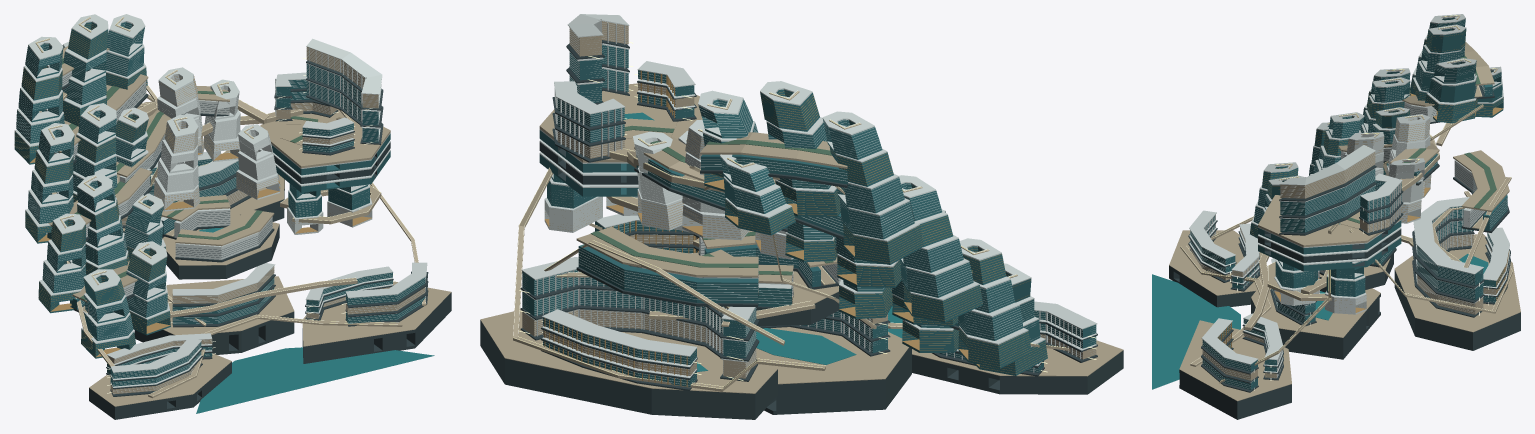
File: R19_LIVING_HORIZON.glb
3 views of the same model, side by side, from view 1: azimuth 30°, elevation 25°; view 2: azimuth 150°, elevation 25°; view 3: azimuth 270°, elevation 25° (orthographic). The views are drawn at different scales.
Visible parts, largest first — view 1: A_INLAND_SEA, A_EAST_deep_public_land, A_EAST_public_surface, H_CONTINUOUS_TOP_GROUND, A_INNER_deep_public_land, A_WEST_deep_public_land, A_WEST_public_surface, A_INNER_public_surface, F_INNER_CITY_deep_public_land, F_PUBLIC_ISTHMUS_shared_roof_land, F_PUBLIC_ISTHMUS_outer_urban_shore, A_PUBLIC_CAUSEWAY_public_deck (+76 smaller); view 2: C_REAR_DELTA_deep_public_land, C_REAR_DELTA_public_surface, N_REAR_HIGH_CITY_inner_urban_shore, A_INNER_deep_public_land, A_WEST_deep_public_land, A_INNER_public_surface, C_REAR_CIVILIZATION_inhabited_depth_1, N_REAR_HIGH_CITY_shared_roof_land, C_REAR_CIVILIZATION_inhabited_depth_0, T_REAR_LINK_public_deck, A_PUBLIC_RESERVOIR, A_WEST_public_surface (+77 smaller); view 3: A_INLAND_SEA, C_REAR_DELTA_public_surface, A_EAST_public_surface, C_REAR_DELTA_deep_public_land, A_INNER_deep_public_land, A_EAST_deep_public_land, A_WEST_public_surface, H_CONTINUOUS_TOP_GROUND, A_INNER_public_surface, C_REAR_CIVILIZATION_roof_avenue_2, N_REAR_HIGH_CITY_shared_roof_land, H_EASTERN_RIDGE_inhabited_depth_1 (+49 smaller).
Part boxes in pixels (x1,y1,x2,y2): A_INLAND_SEA: (196, 347, 434, 413); A_EAST_deep_public_land: (302, 292, 451, 363); A_EAST_public_surface: (302, 281, 451, 346); H_CONTINUOUS_TOP_GROUND: (260, 109, 390, 168); A_INNER_deep_public_land: (134, 311, 294, 354); A_WEST_deep_public_land: (89, 362, 231, 419); A_WEST_public_surface: (89, 353, 231, 406); A_INNER_public_surface: (163, 276, 294, 335); F_INNER_CITY_deep_public_land: (166, 224, 279, 279); F_PUBLIC_ISTHMUS_shared_roof_land: (175, 209, 274, 246); F_PUBLIC_ISTHMUS_outer_urban_shore: (175, 216, 272, 259); A_PUBLIC_CAUSEWAY_public_deck: (148, 315, 402, 398); C_REAR_DELTA_deep_public_land: (480, 320, 777, 419); C_REAR_DELTA_public_surface: (480, 309, 777, 393); N_REAR_HIGH_CITY_inner_urban_shore: (578, 244, 758, 303); A_INNER_deep_public_land: (764, 347, 911, 414); A_WEST_deep_public_land: (912, 350, 1123, 394); A_INNER_public_surface: (756, 327, 908, 384); C_REAR_CIVILIZATION_inhabited_depth_1: (522, 289, 756, 358); N_REAR_HIGH_CITY_shared_roof_land: (576, 226, 758, 277); C_REAR_CIVILIZATION_inhabited_depth_0: (522, 309, 756, 378); T_REAR_LINK_public_deck: (513, 168, 825, 391); A_PUBLIC_RESERVOIR: (756, 328, 856, 364); A_WEST_public_surface: (912, 340, 1123, 376); A_INLAND_SEA: (1152, 274, 1240, 389); C_REAR_DELTA_public_surface: (1394, 234, 1520, 332); A_EAST_public_surface: (1179, 320, 1291, 401); C_REAR_DELTA_deep_public_land: (1394, 270, 1520, 350); A_INNER_deep_public_land: (1251, 293, 1380, 359); A_EAST_deep_public_land: (1179, 370, 1291, 419); A_WEST_public_surface: (1169, 230, 1262, 295); H_CONTINUOUS_TOP_GROUND: (1258, 195, 1401, 247); A_INNER_public_surface: (1251, 283, 1380, 337); C_REAR_CIVILIZATION_roof_avenue_2: (1413, 197, 1483, 274); N_REAR_HIGH_CITY_shared_roof_land: (1453, 150, 1509, 211); H_EASTERN_RIDGE_inhabited_depth_1: (1280, 169, 1375, 215).
Bounding box in the file's own units: 6100 × 4373 × 5400.
